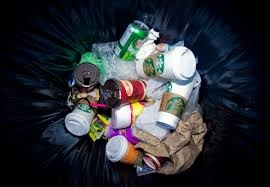metal: (111, 17, 151, 64)
paper: (149, 111, 209, 177), (154, 74, 198, 130), (142, 45, 202, 82), (60, 97, 101, 140), (100, 77, 151, 109), (98, 139, 153, 163)
